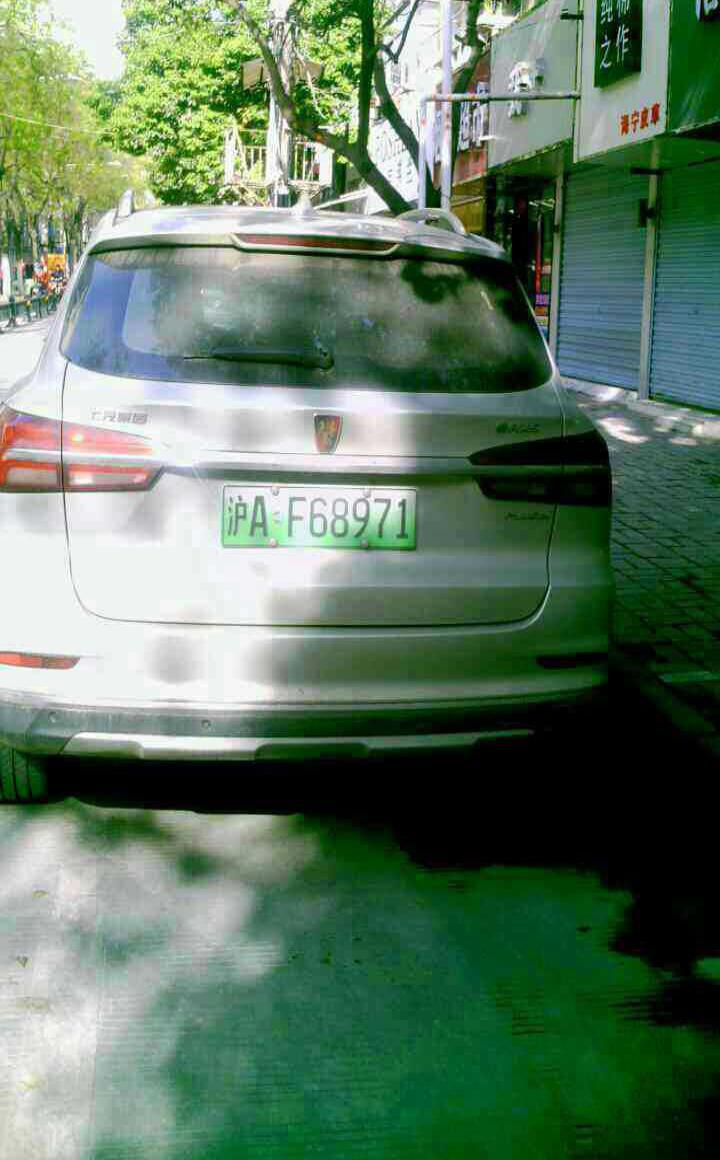car: (225, 483, 421, 547)
